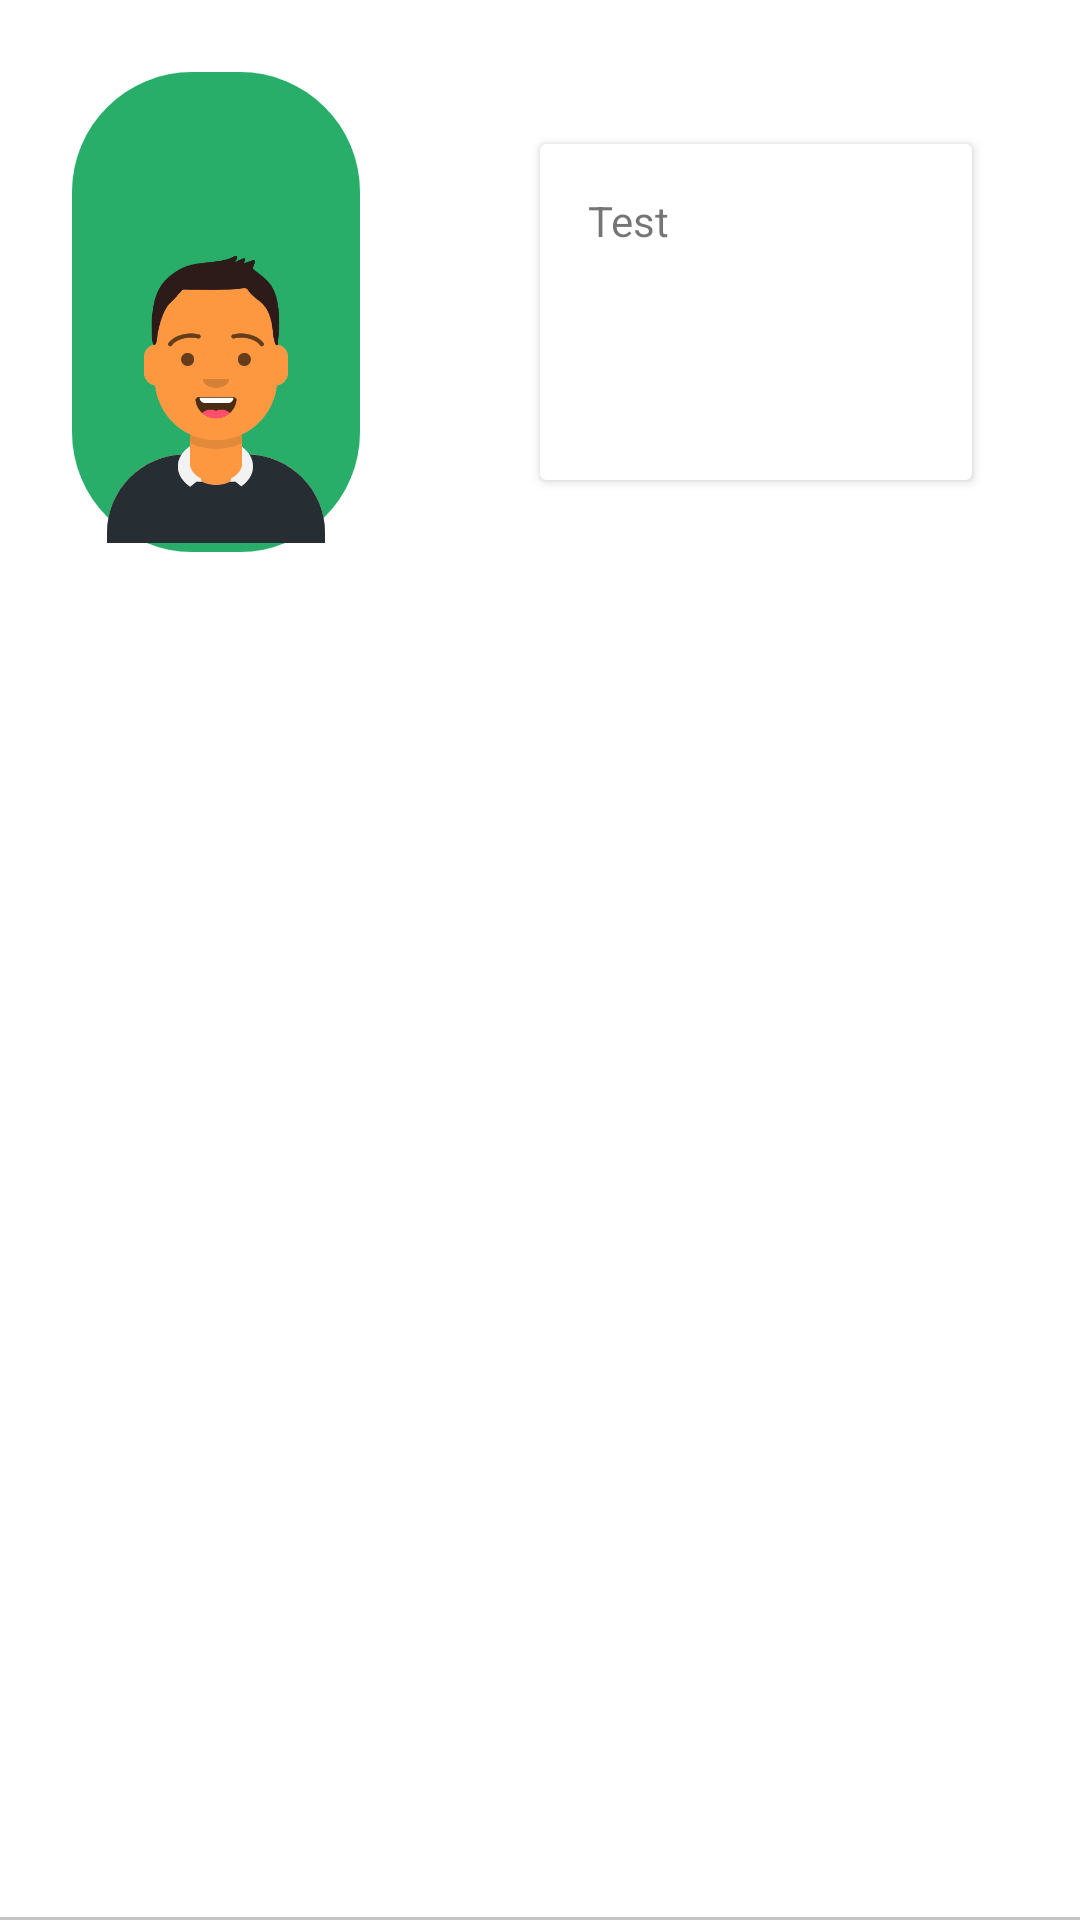

Locate icon controls on the screen. Image size 1080w x 1920h, boxes as bbox(x1, y1, x2, y2).
man: bbox(72, 228, 360, 552)
